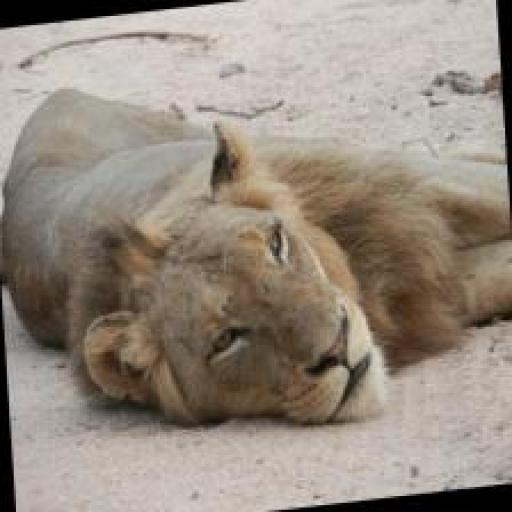lion: (0, 37, 512, 464)
